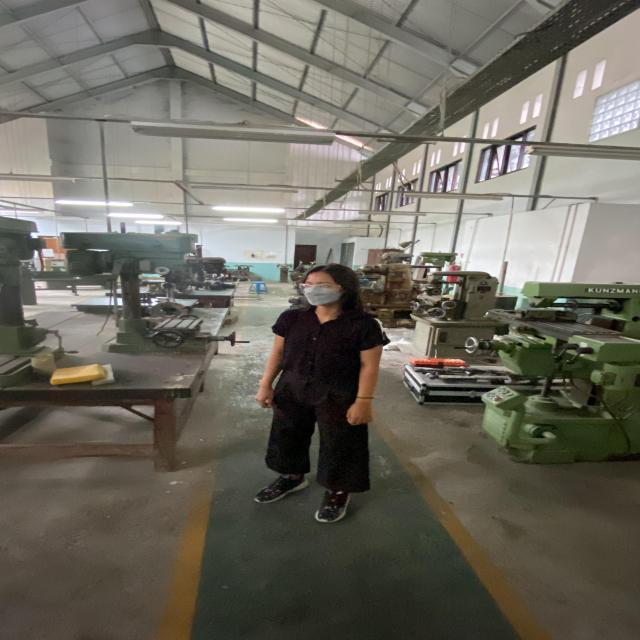glasses: (290, 282, 346, 292)
